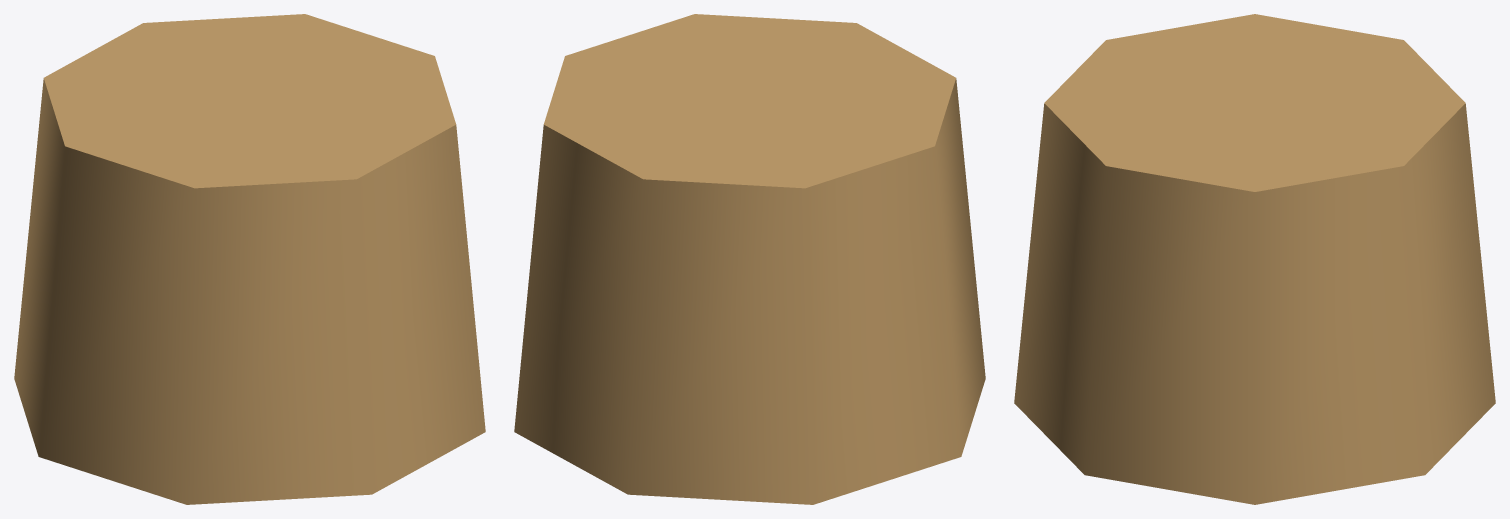
File: sack.glb
3 renders of one model, left to right at view 1: azimuth 30°, elevation 25°; view 2: azimuth 150°, elevation 25°; view 3: azimuth 270°, elevation 25°, orthographic.
Parts seen in each view (by area): view 1: sack; view 2: sack; view 3: sack.
Boxes of the visible parts, x1,y1,x2,y2 form: sack: (14, 14, 485, 504); sack: (514, 14, 985, 504); sack: (1014, 14, 1495, 504).
Bounding box in the file's own units: 0.8 × 0.55 × 0.8.
